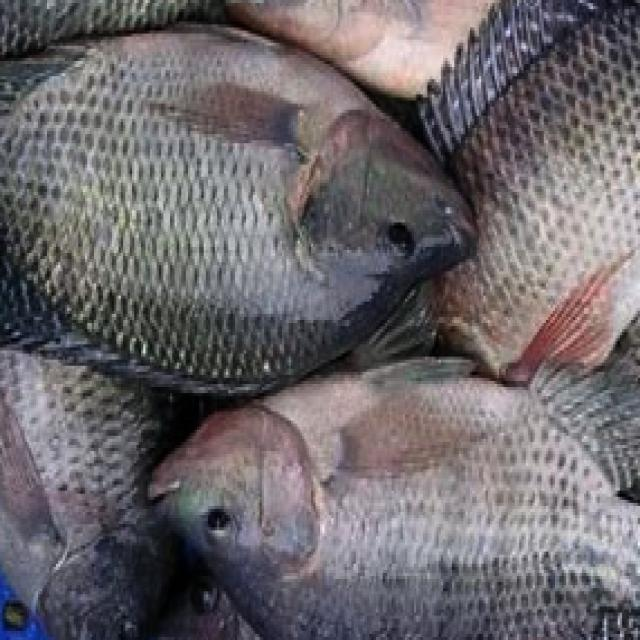Tilapia: (0, 23, 479, 393), (147, 350, 640, 640)
